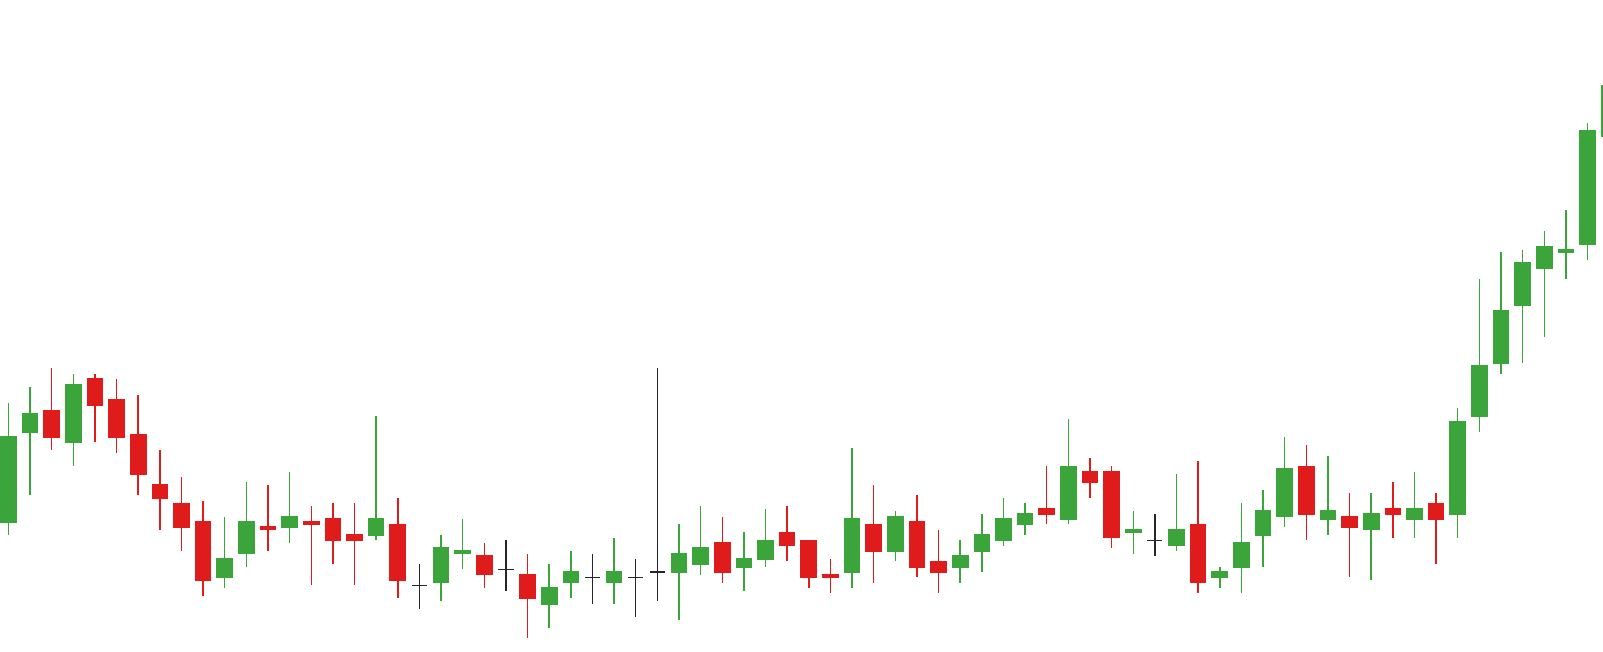buy: (1252, 464, 1384, 595)
